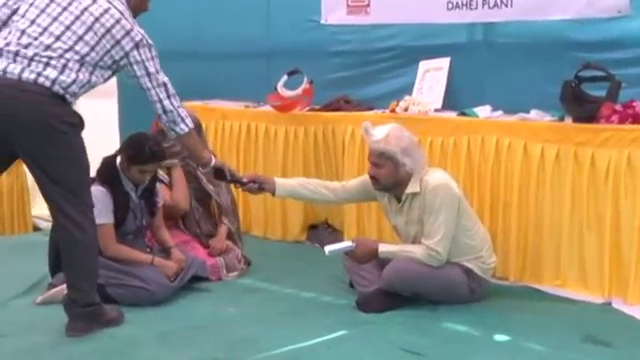helmet_off: (105, 129, 176, 196), (357, 130, 430, 194)
person: (0, 0, 243, 336), (243, 128, 497, 314), (34, 129, 194, 304), (130, 113, 258, 283)
